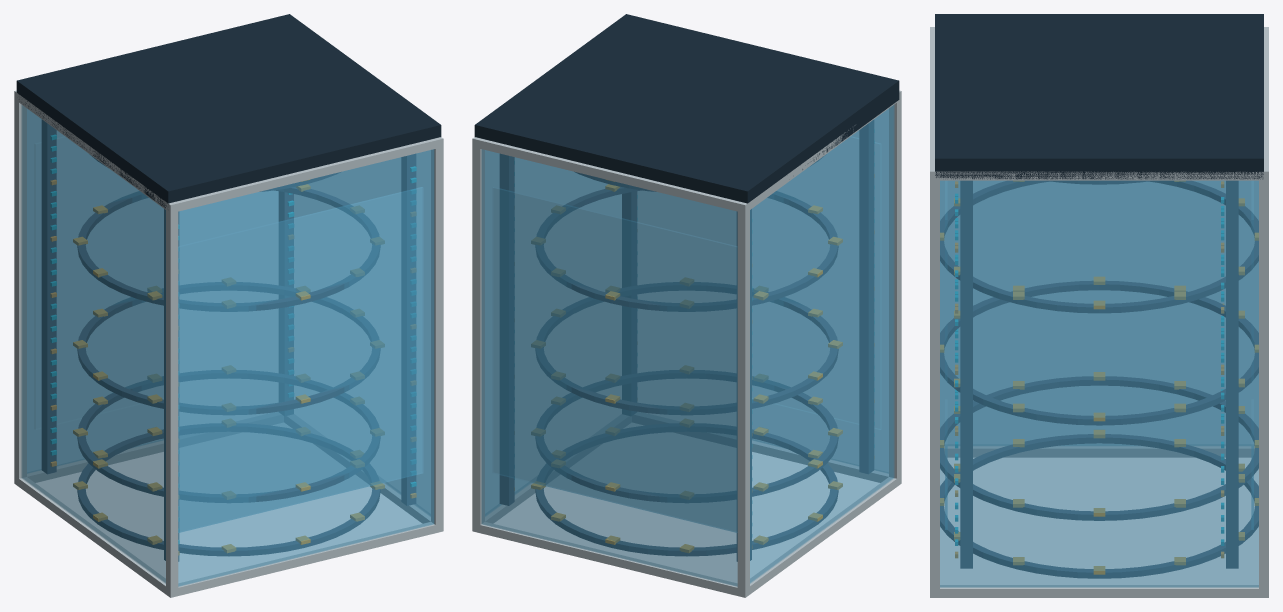
The model's file is 01_L79_TransparentVerticalBondingTower.fbx.
3 views of the same model, side by side, from view 1: azimuth 30°, elevation 25°; view 2: azimuth 150°, elevation 25°; view 3: azimuth 270°, elevation 25° (orthographic). The views are drawn at different scales.
Visible parts, largest first — view 1: TransparentVerticalBondingTower; view 2: TransparentVerticalBondingTower; view 3: TransparentVerticalBondingTower.
Part boxes in pixels (box(x1,y1,x2,y2)): TransparentVerticalBondingTower: box(14, 14, 443, 597); TransparentVerticalBondingTower: box(472, 14, 901, 597); TransparentVerticalBondingTower: box(930, 14, 1268, 597).
Bounding box in the file's own units: 520 × 737 × 515.
